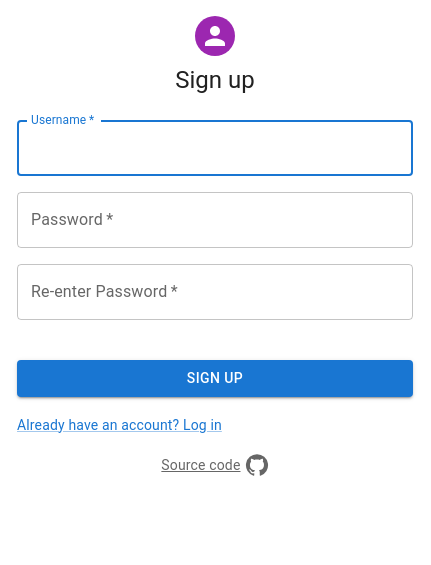
it: Signup Page tests › should show errors on password field
The image size is (431, 565).
Type "1" into the password field with test id "password-field-1". click: (215, 220)
box: [17,192,413,248]
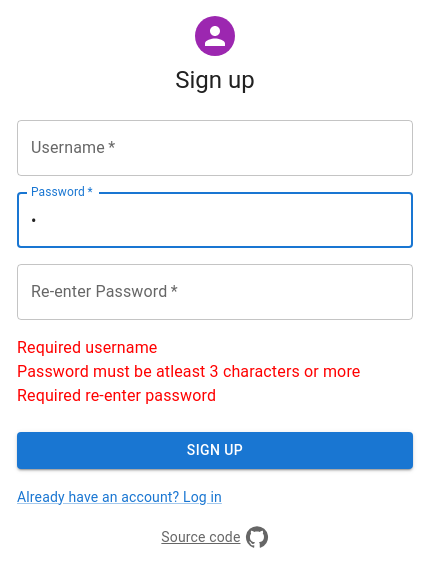
Now the text "Password must be atleast 3 characters or more" is shown, box [17,360,413,384]
